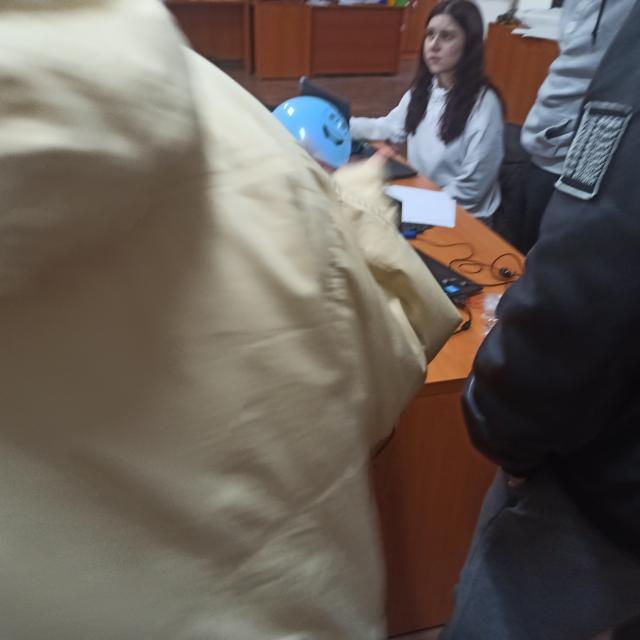balloon: (266, 96, 351, 166)
